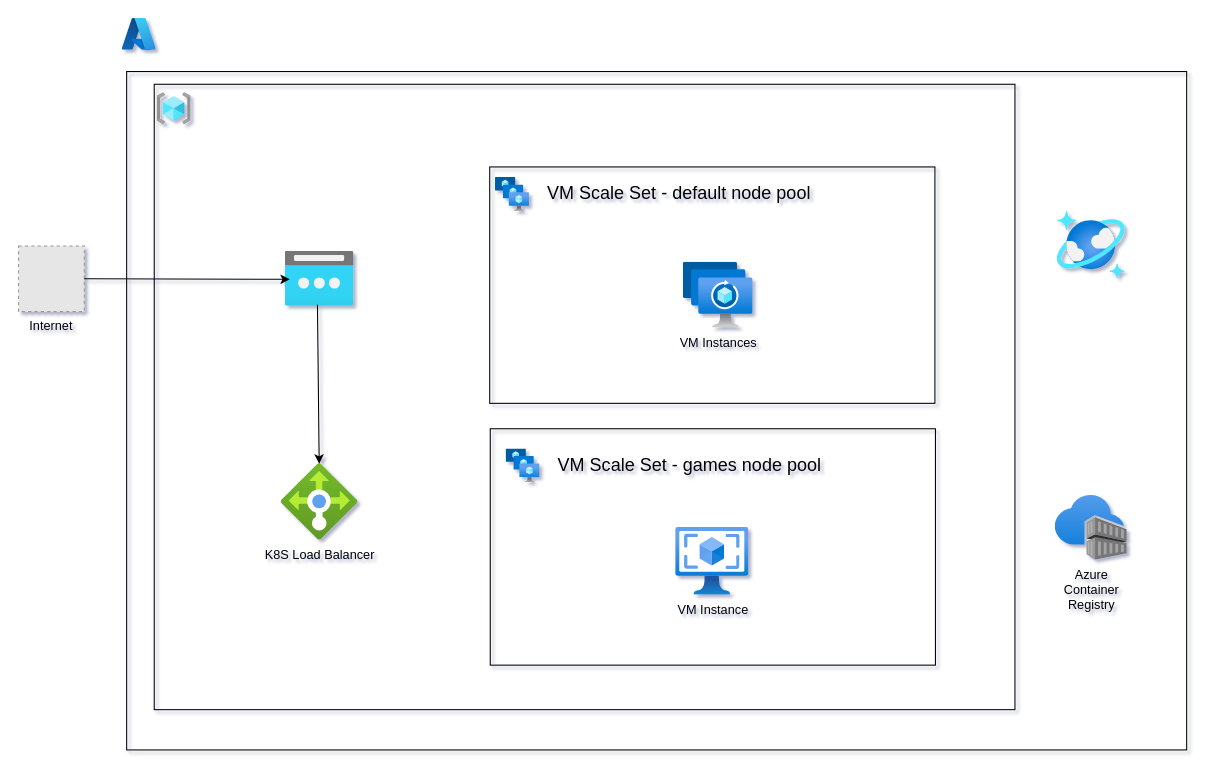
Some shapes in this 1212 by 775 pixel diagram are drawn without their labels. Grey dashed boxes stand in for pictures. The centre of each missing label's shape, as x and y in pixels:
AKS Managed Resource Group: point 174,108
Azure Cloud - US Central Region: point 139,34
Cosmos DB Candidates Table: point 1091,245
Load Balancer Public IP Address: point 319,278
